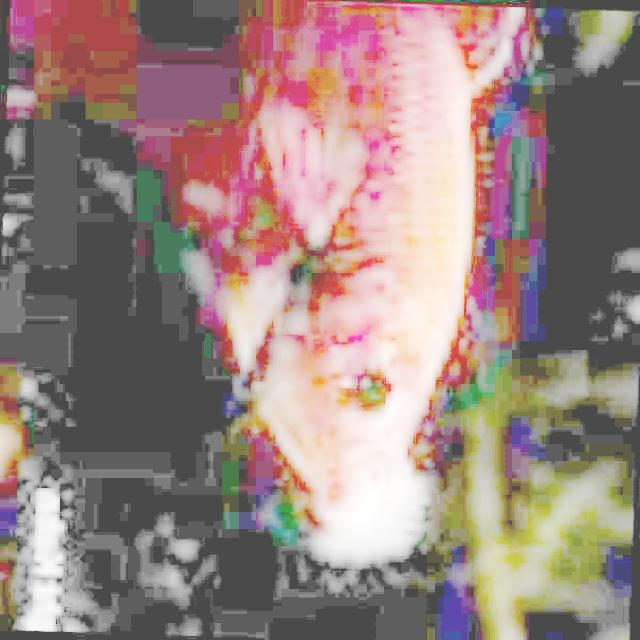Fungal Disease -Saprolegniasis-: (228, 4, 521, 559), (228, 4, 521, 557)
